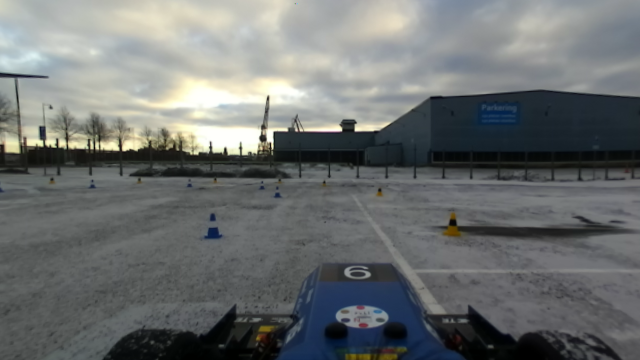blue: (202, 213, 223, 241)
yellow: (441, 211, 464, 239)
